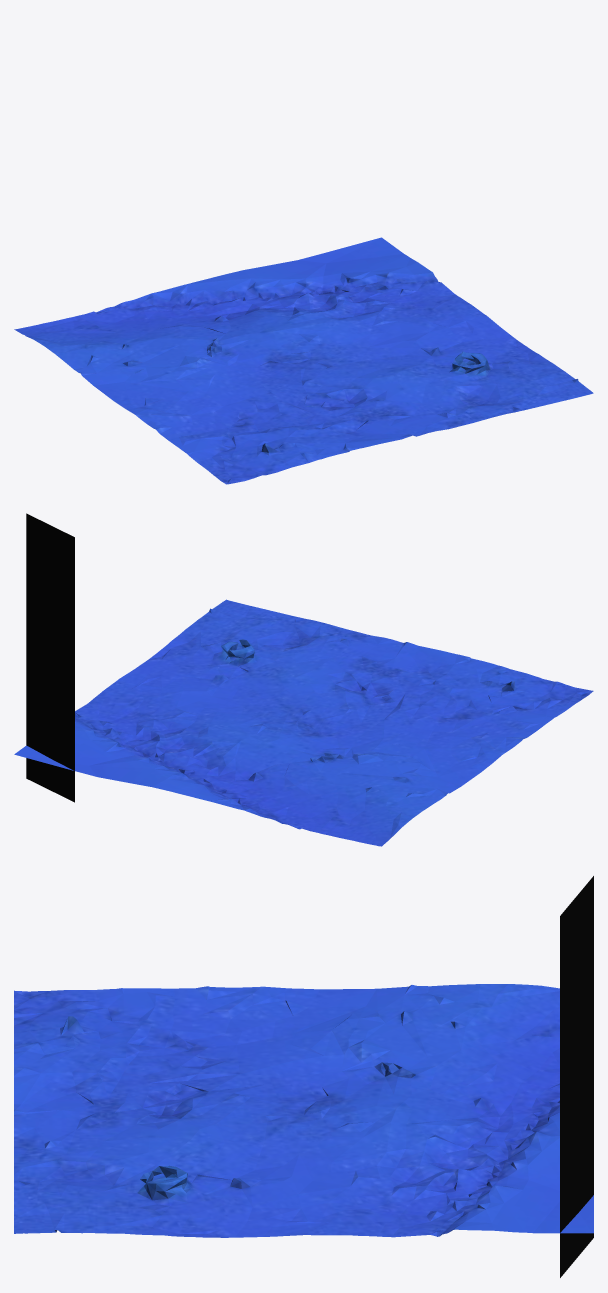
3 renders of one model, top to bottom at view 1: azimuth 30°, elevation 25°; view 2: azimuth 150°, elevation 25°; view 3: azimuth 270°, elevation 25°, orthographic. The views are drawn at different scales.
Bounding box in the file's own units: 13.06 × 9 × 13.06.
4 materials, 4 textured.
